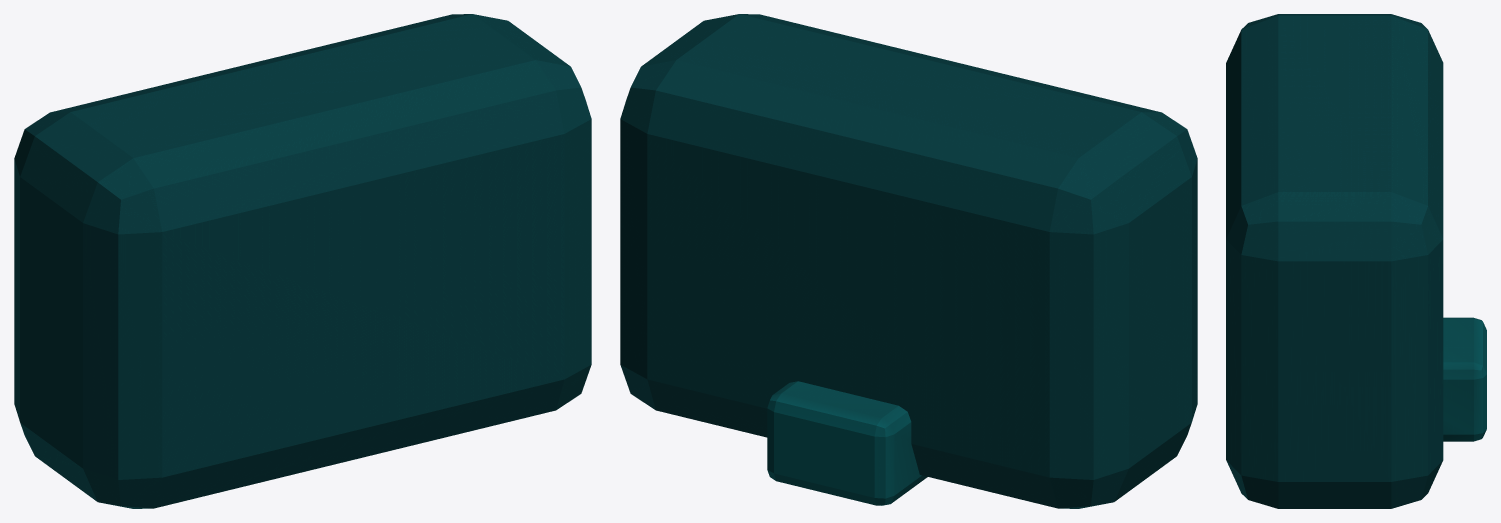
File: part_headlight.glb
The picture shows the model from 3 angles, left to right: view 1: azimuth 30°, elevation 25°; view 2: azimuth 150°, elevation 25°; view 3: azimuth 270°, elevation 25°; orthographic projection. The views are drawn at different scales.
Visible parts, largest first — view 1: part_headlight; view 2: part_headlight; view 3: part_headlight.
Boxes of the visible parts, bbox=[...] form: part_headlight: bbox=[14, 14, 591, 508]; part_headlight: bbox=[620, 14, 1197, 508]; part_headlight: bbox=[1226, 14, 1486, 508].
Size of the model in its own units: 0.12 by 0.08 by 0.06.
Materials: 1 (1 with a texture image).
